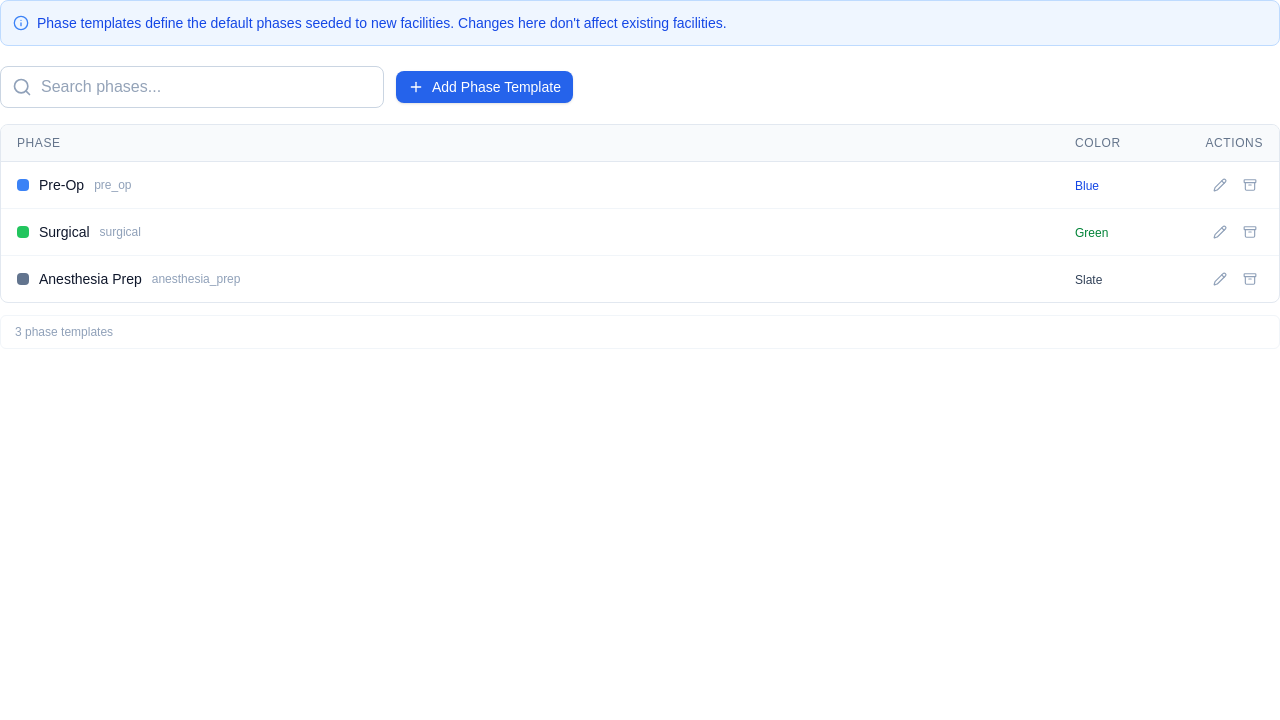
it: AdminPhaseLibrary › archive phase template › opens confirmation dialog when archive clicked
Click the button titled "Archive" next to "Blue".
click(1250, 185)  # box [1237, 172, 1263, 198]
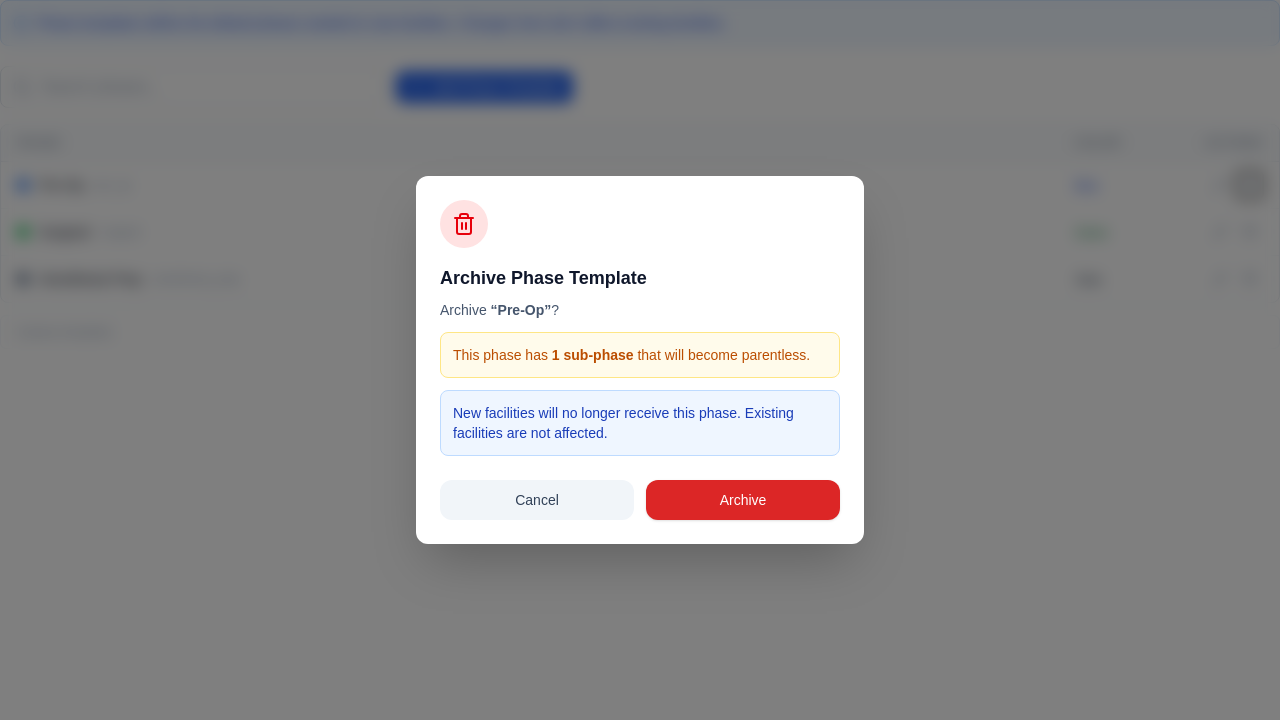
Now the heading "Archive Phase Template" is shown, box [440, 268, 647, 288]
Now the text "New facilities will no longer receive this phase" is shown, box [453, 405, 794, 441]
